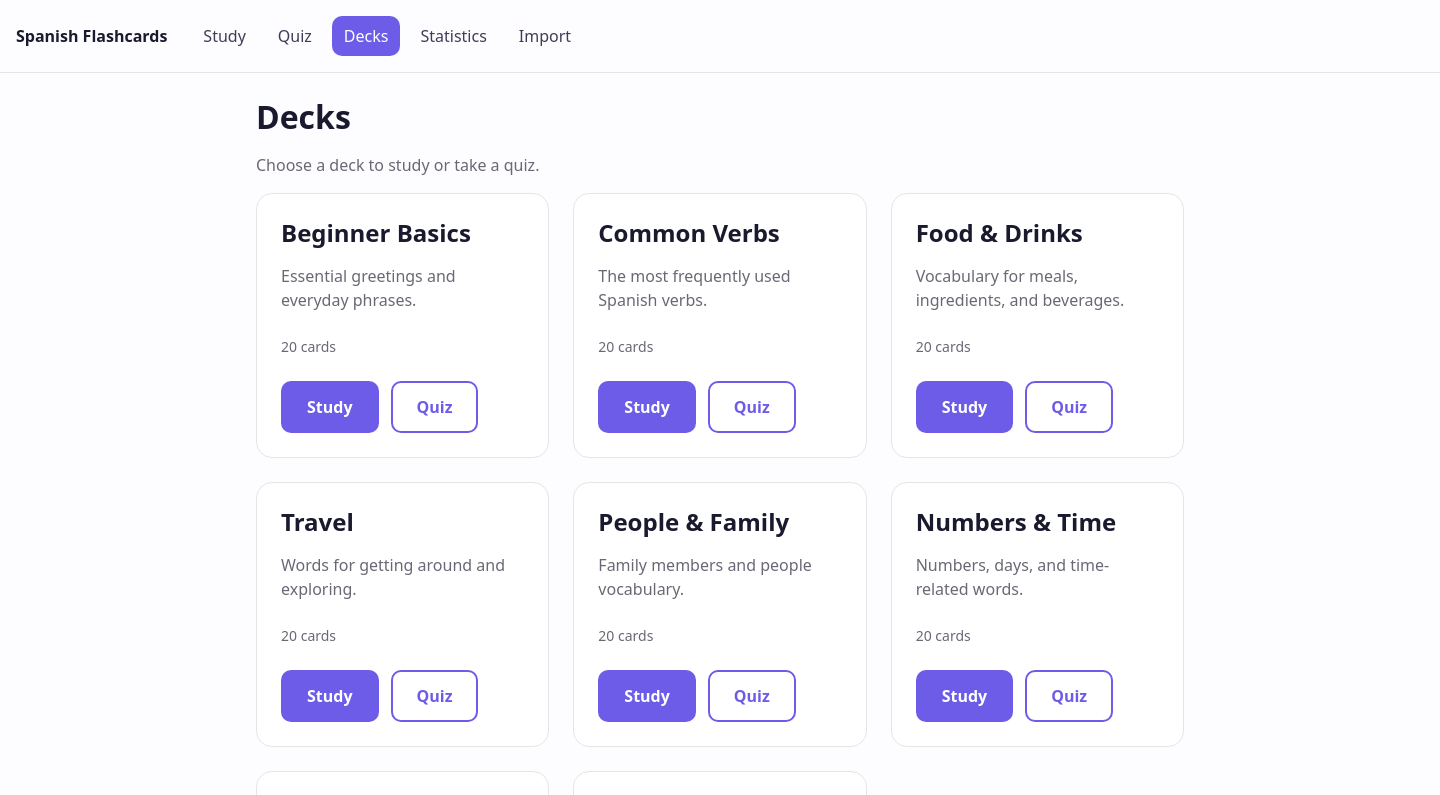
Test: App routing › navigates from the Decks page to a deck-specific Study screen without a page reload
The image size is (1440, 795).
Click the link "Study" below "Beginner Basics" at {"x": 330, "y": 407}, box x1=281 y1=381 x2=378 y2=433
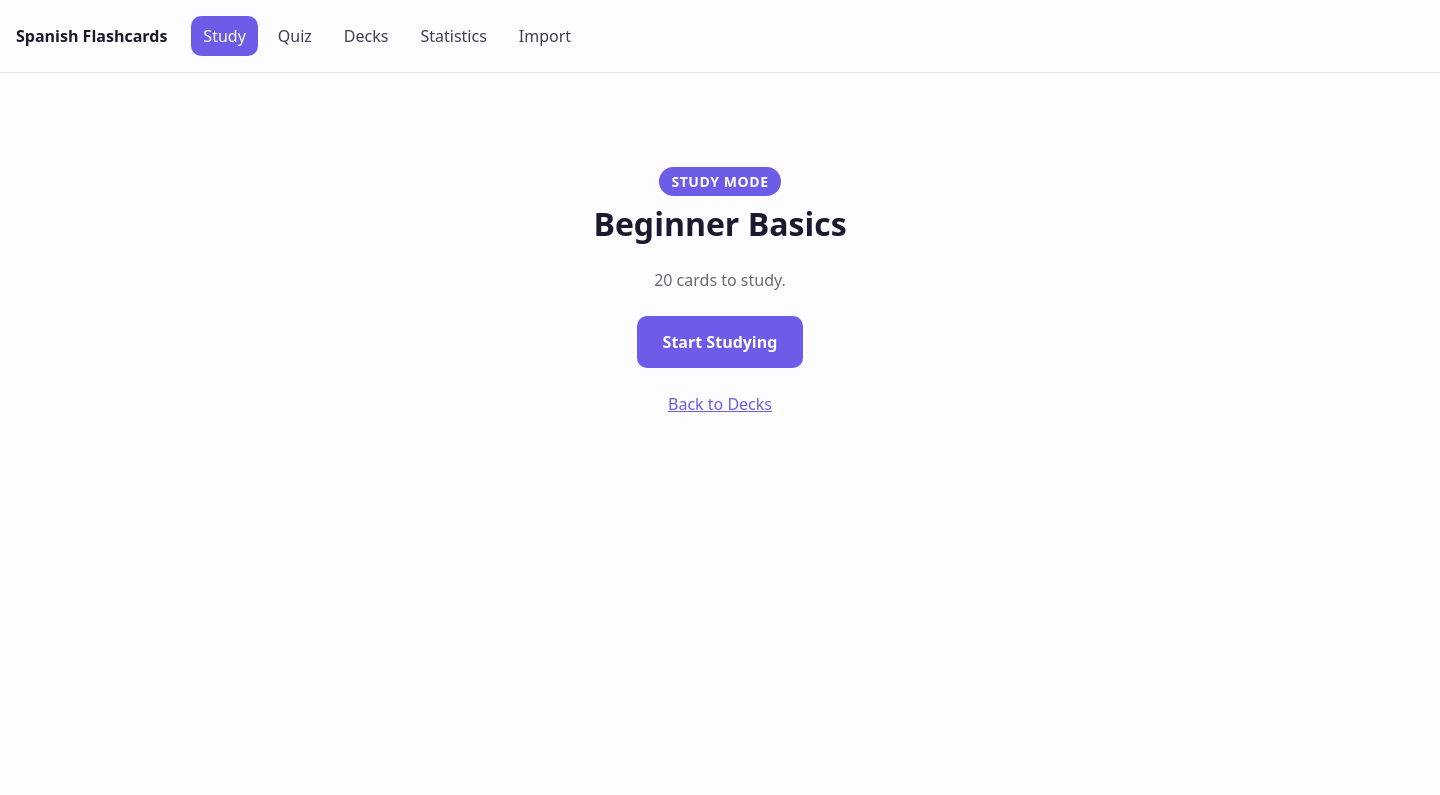
Expected: the heading "Beginner Basics" is shown, x1=594 y1=204 x2=847 y2=244
Result: the button "Start Studying" is shown at x1=637 y1=316 x2=803 y2=368
